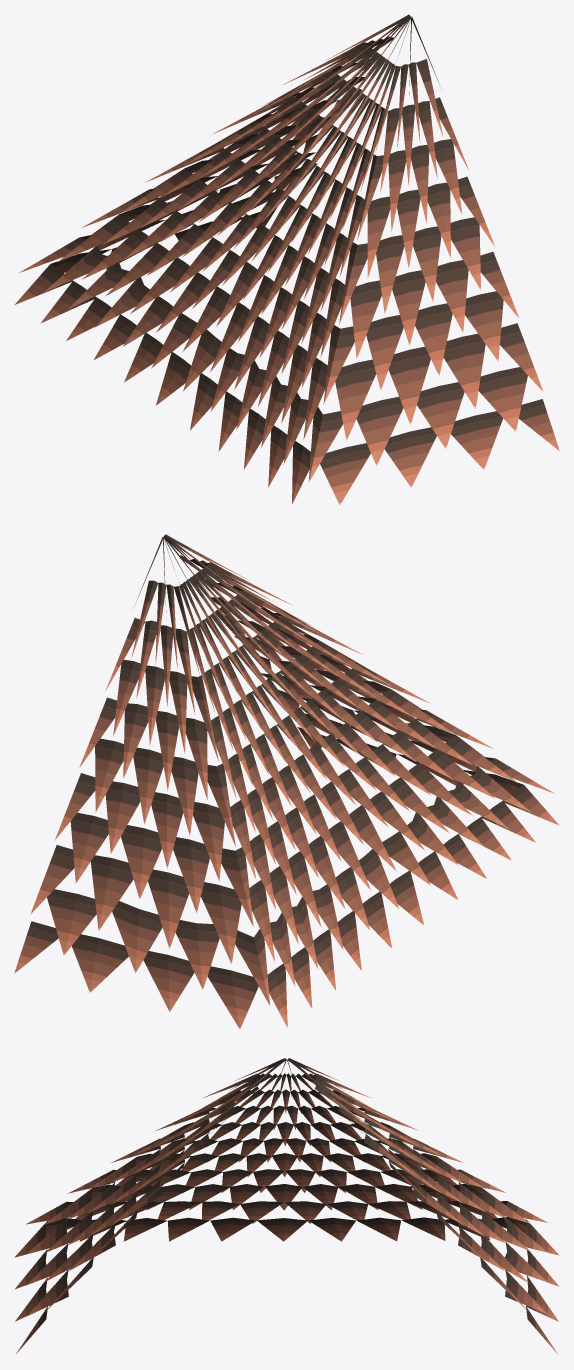
The model's file is Steeple_Roof_Corner_LOD0.fbx.
The picture shows the model from 3 angles, top to bottom: view 1: azimuth 30°, elevation 25°; view 2: azimuth 150°, elevation 25°; view 3: azimuth 270°, elevation 25°; orthographic projection. The views are drawn at different scales.
Visible parts, largest first — view 1: Steeple_Roof_Corner_LOD1; view 2: Steeple_Roof_Corner_LOD1; view 3: Steeple_Roof_Corner_LOD1.
Boxes of the visible parts, x1,y1,x2,y2 form: Steeple_Roof_Corner_LOD1: [14, 14, 559, 505]; Steeple_Roof_Corner_LOD1: [14, 534, 559, 1028]; Steeple_Roof_Corner_LOD1: [14, 1058, 559, 1354].
Bounding box in the file's own units: 248 × 299 × 496.
